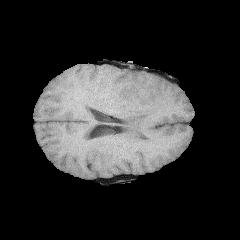glioma: (109, 69, 171, 140)
